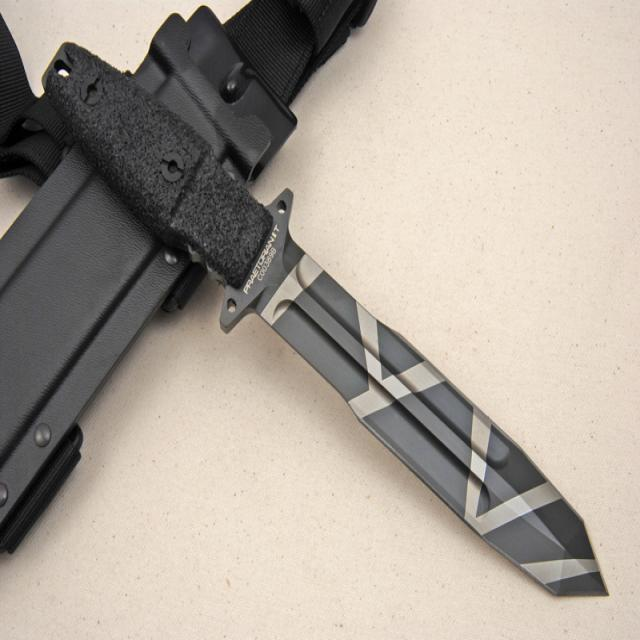knife: (42, 32, 612, 604)
